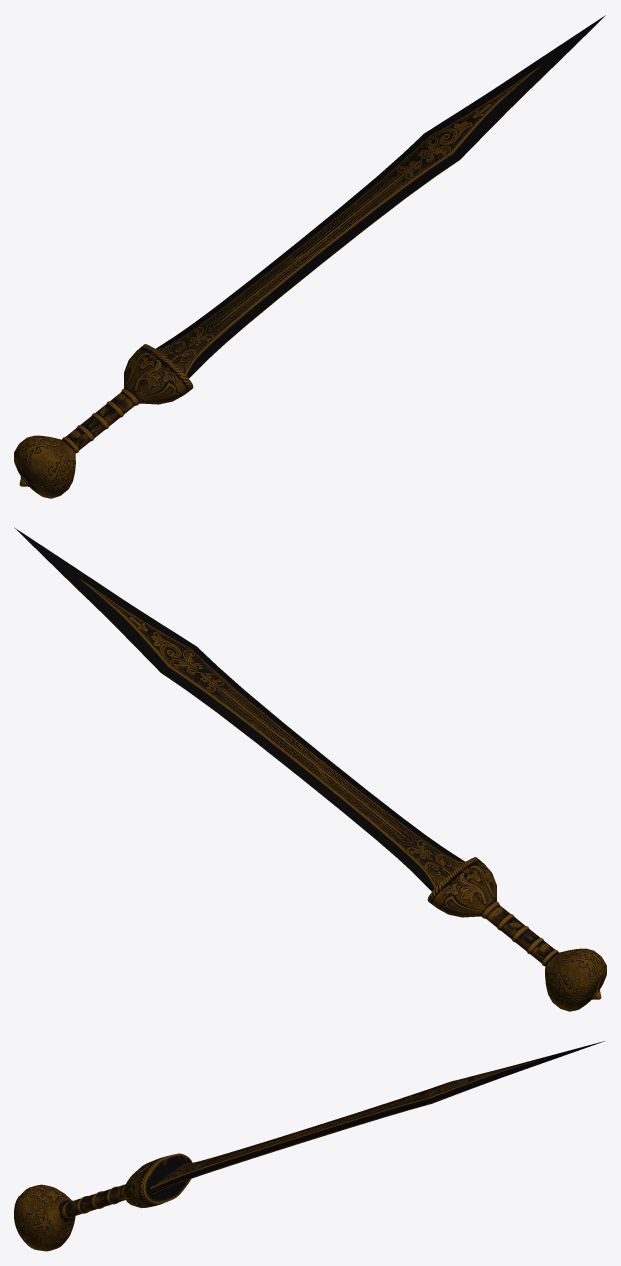
File: sword.glb
The picture shows the model from 3 angles, top to bottom: view 1: azimuth 30°, elevation 25°; view 2: azimuth 150°, elevation 25°; view 3: azimuth 330°, elevation 25°; orthographic projection.
Parts seen in each view (by area): view 1: Sword_LP_Cube.010; view 2: Sword_LP_Cube.010; view 3: Sword_LP_Cube.010.
Part boxes in pixels (x1,y1,x2,y2): Sword_LP_Cube.010: [14, 15, 605, 498]; Sword_LP_Cube.010: [14, 527, 606, 1011]; Sword_LP_Cube.010: [14, 1041, 604, 1251].
Size of the model in its own units: 27.07 by 15.19 by 3.73.
1 material, 1 textured.
